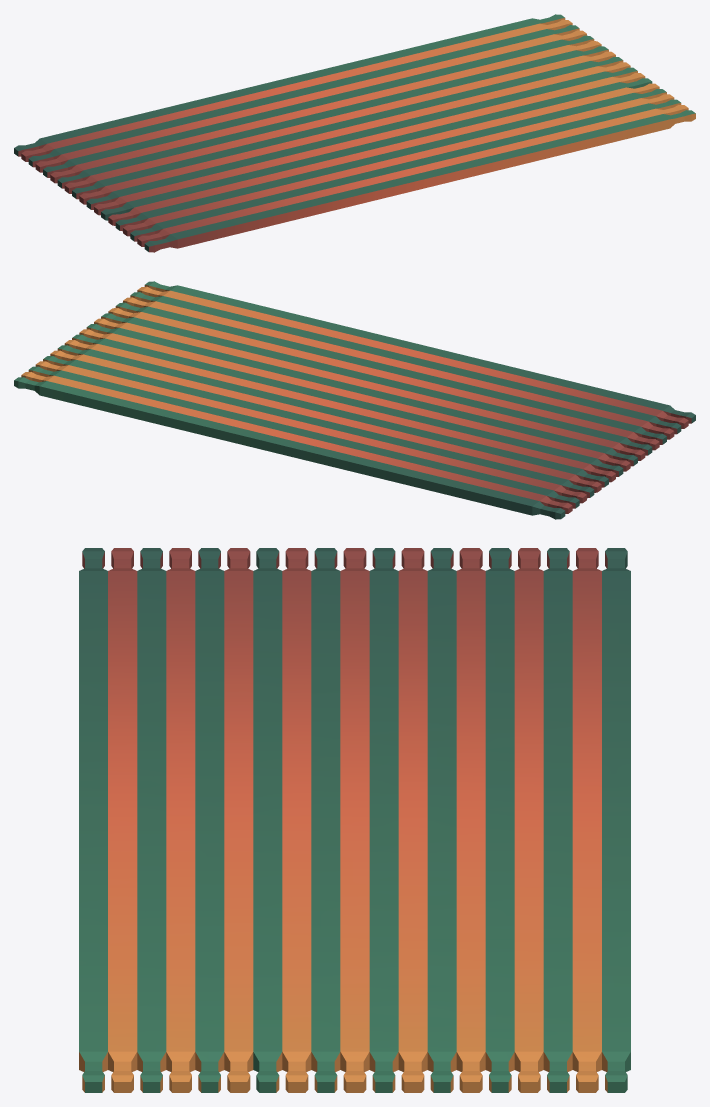
Rendered from carpet04.fbx.
The picture shows the model from 3 angles, top to bottom: view 1: azimuth 30°, elevation 25°; view 2: azimuth 150°, elevation 25°; view 3: azimuth 270°, elevation 25°; orthographic projection. The views are drawn at different scales.
Parts seen in each view (by area): view 1: carpet04; view 2: carpet04; view 3: carpet04.
Part boxes in pixels (x1,y1,x2,y2): carpet04: (14, 14, 695, 252); carpet04: (14, 281, 695, 519); carpet04: (79, 548, 630, 1092).
Size of the model in its own units: 1.86 by 0.0298 by 0.8117.
